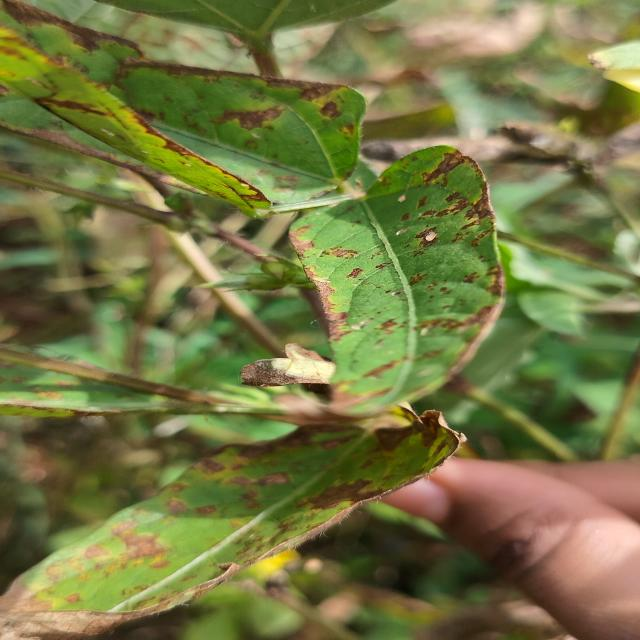Black gram_leaf spot: (0, 390, 469, 640), (0, 0, 365, 209), (298, 148, 508, 416)
